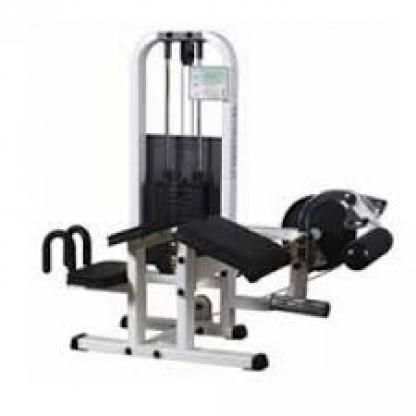reg curl machine: (38, 28, 395, 376)
